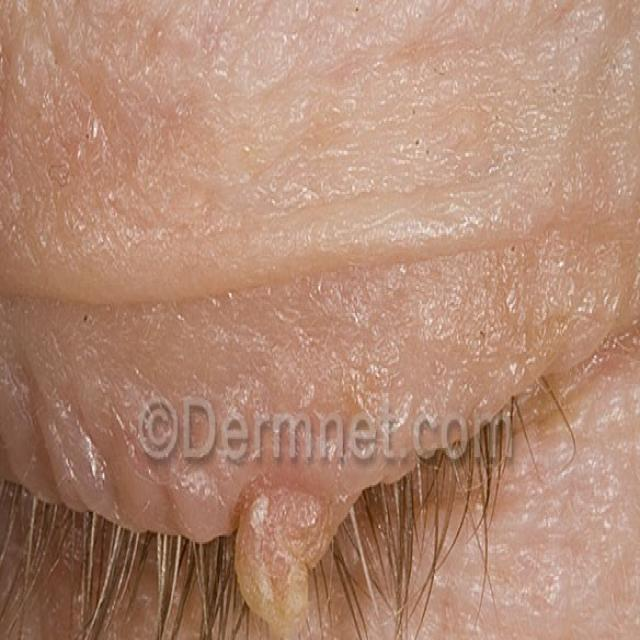Warts: (179, 398, 360, 640)
